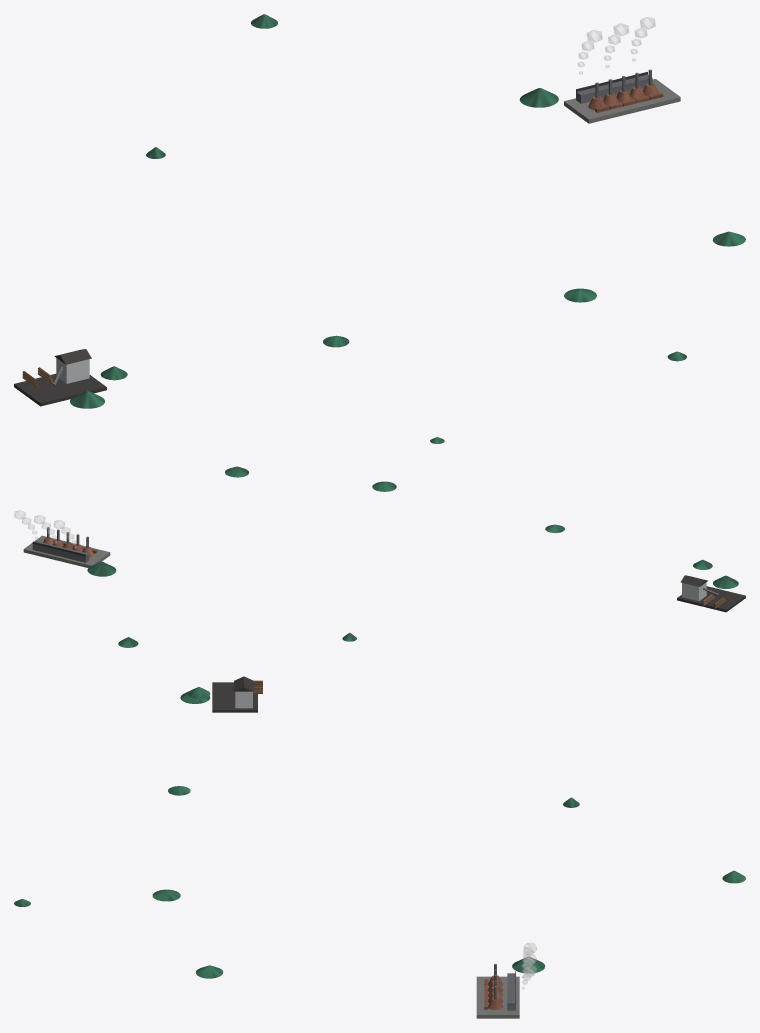
File: Theme_P2.fbx
The picture shows the model from 3 angles, top to bottom: view 1: azimuth 30°, elevation 25°; view 2: azimuth 150°, elevation 25°; view 3: azimuth 270°, elevation 25°; orthographic projection. The views are drawn at different scales.
Parts seen in each view (by area): view 1: Theme.CokeOvens, Theme.Screens; view 2: Theme.CokeOvens, Theme.Screens; view 3: Theme.CokeOvens, Theme.Screens.
Boxes of the visible parts, x1,y1,x2,y2 form: Theme.CokeOvens: (564, 69, 680, 123); Theme.Screens: (14, 349, 106, 406); Theme.CokeOvens: (23, 527, 110, 567); Theme.Screens: (677, 575, 745, 612); Theme.CokeOvens: (476, 964, 519, 1018); Theme.Screens: (212, 676, 262, 712).
Bounding box in the file's own units: 31335 × 2320 × 28942.
